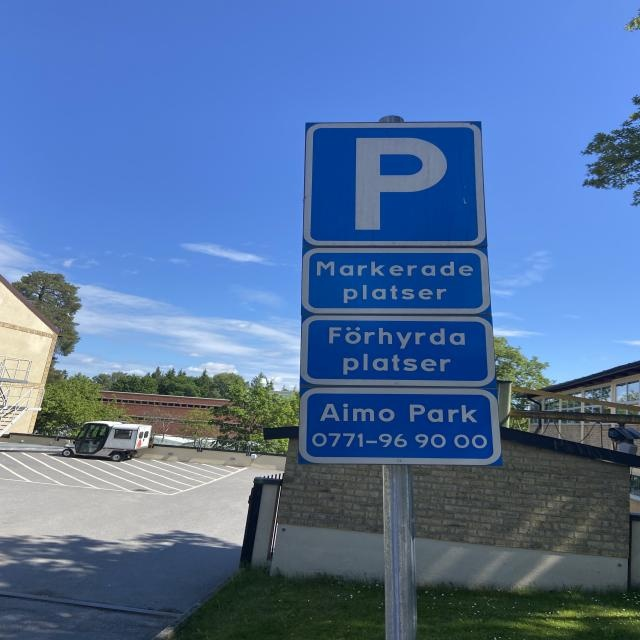P-skylt: (308, 124, 484, 247)
